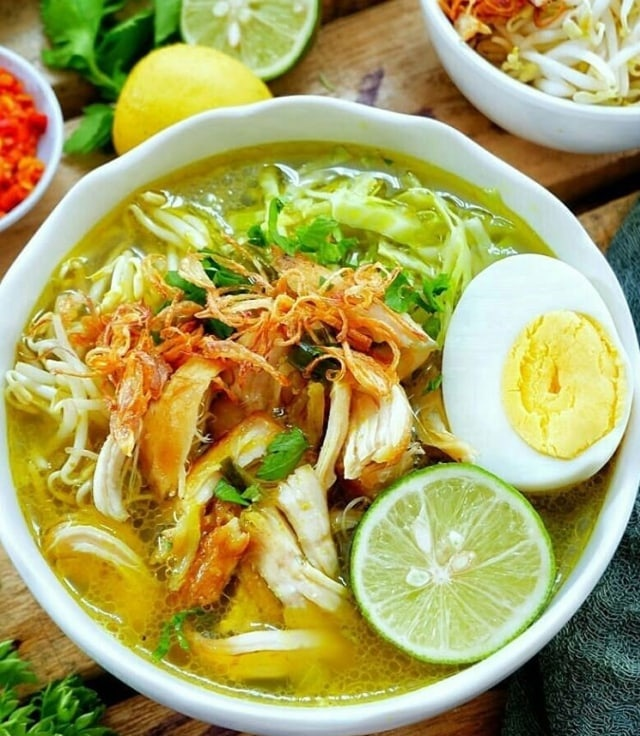soto: (22, 138, 577, 657)
